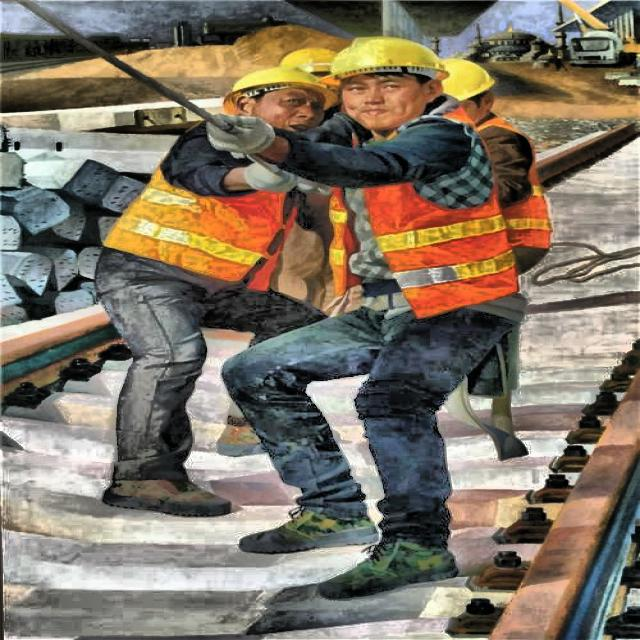helmet: (315, 30, 462, 132), (226, 66, 330, 128), (436, 56, 504, 118)
